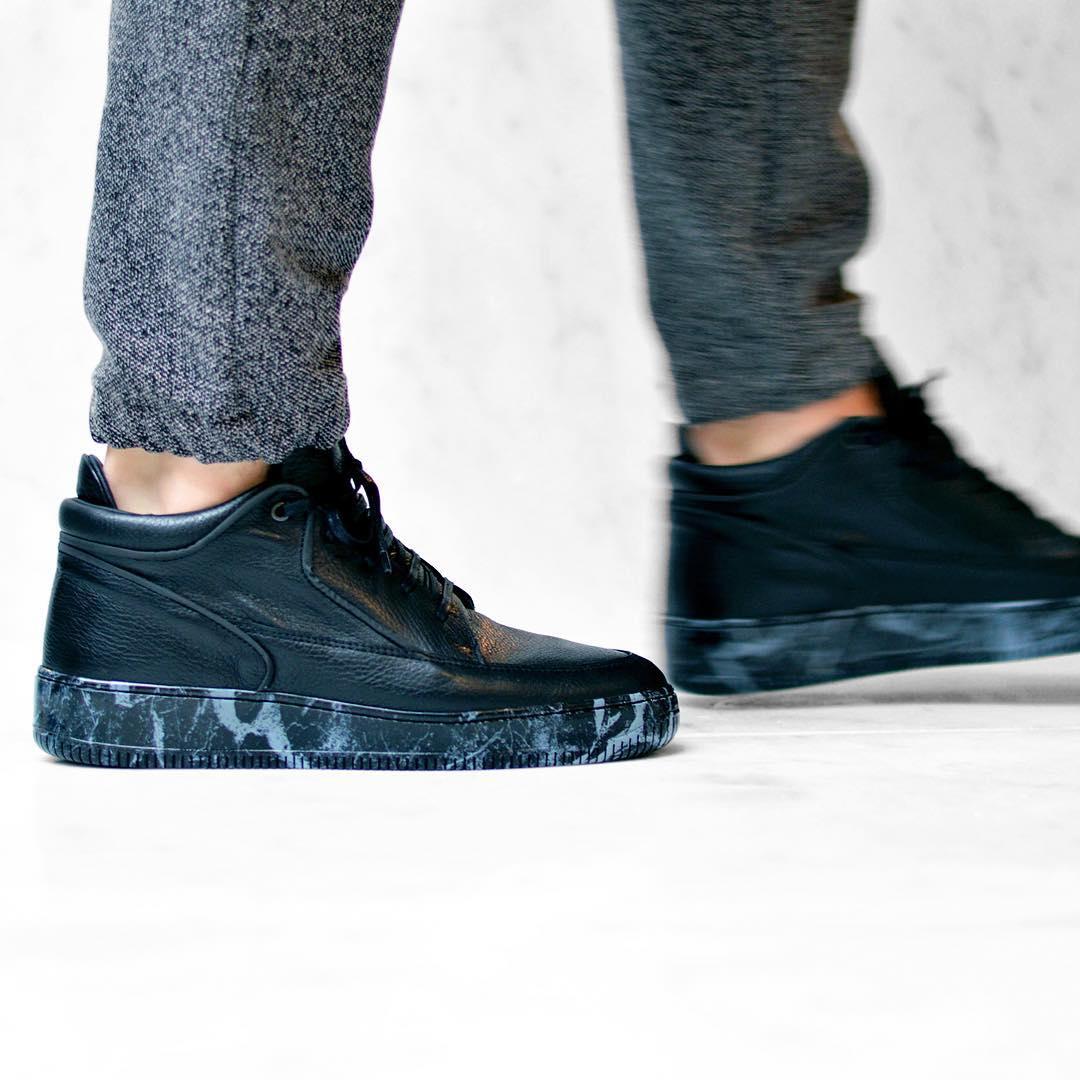sneaker: (7, 391, 703, 810), (633, 350, 1080, 719)
